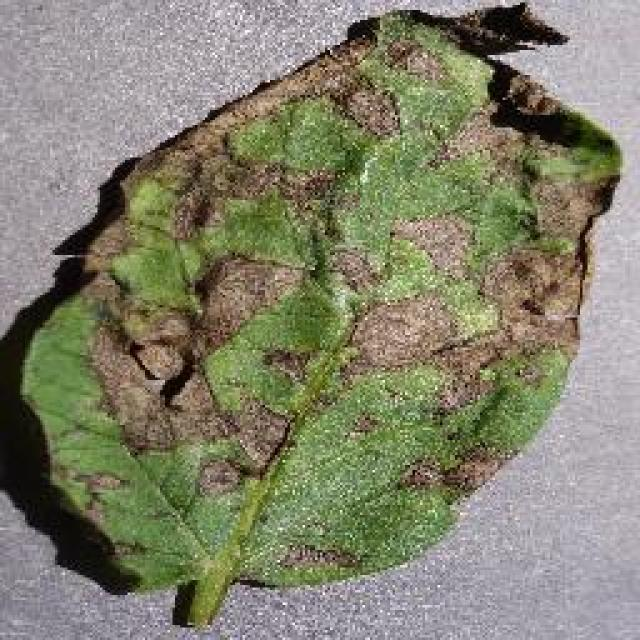early_blight: (15, 0, 625, 630)
